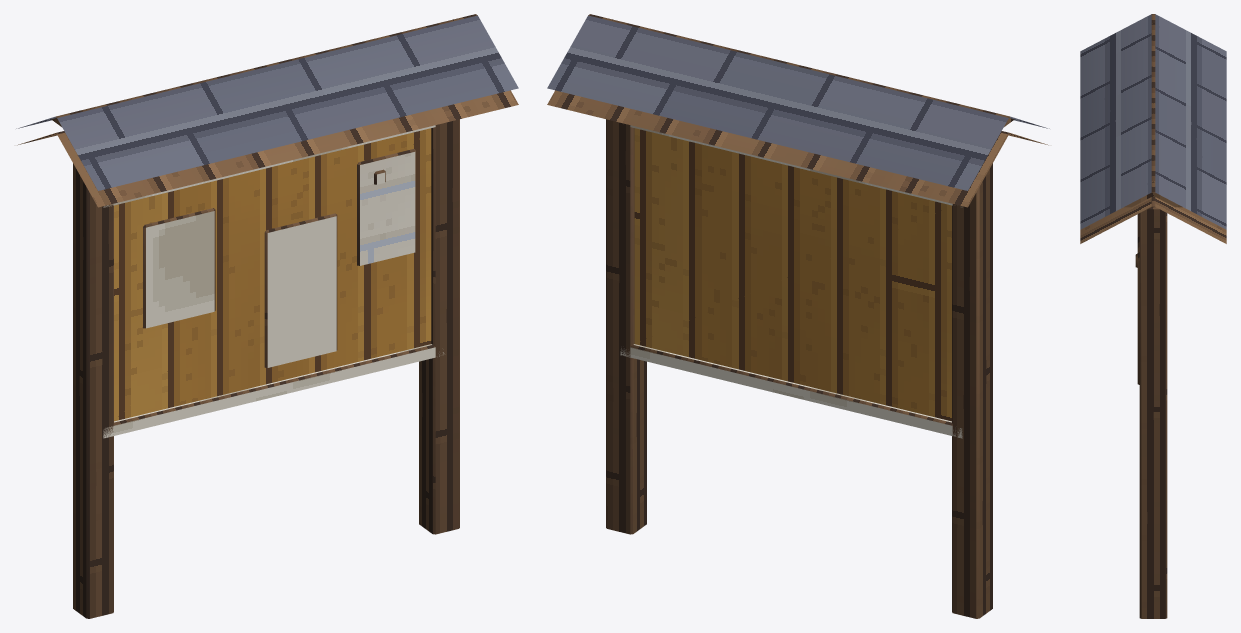
Rendered from spec_notice_board_0.glb.
3 views of the same model, side by side, from view 1: azimuth 30°, elevation 25°; view 2: azimuth 150°, elevation 25°; view 3: azimuth 270°, elevation 25° (orthographic). The views are drawn at different scales.
Parts seen in each view (by area): view 1: spec_notice_board_0; view 2: spec_notice_board_0; view 3: spec_notice_board_0.
Boxes of the visible parts, bbox=[...] form: spec_notice_board_0: bbox=[16, 14, 518, 618]; spec_notice_board_0: bbox=[547, 14, 1049, 618]; spec_notice_board_0: bbox=[1080, 14, 1226, 618].
Size of the model in its own units: 2.14 by 2.44 by 0.74.
8 materials, 8 textured.
